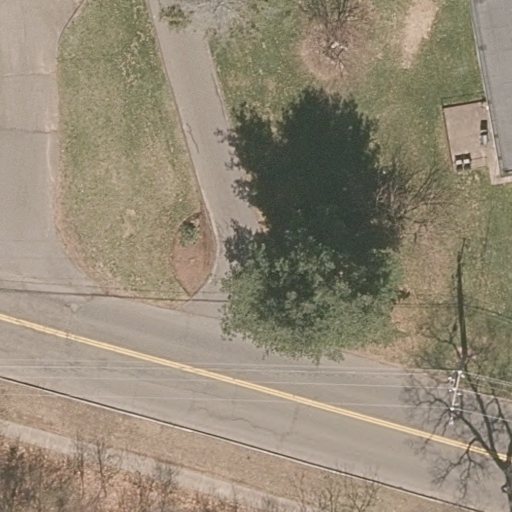DT: (444, 368, 466, 426)
